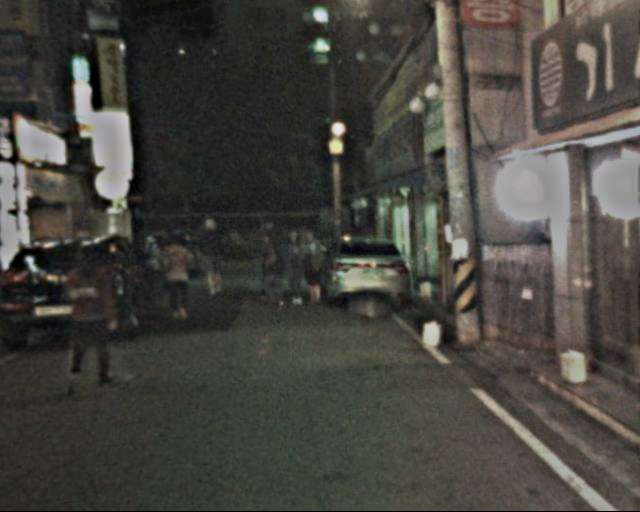person: (64, 243, 121, 379), (157, 236, 195, 324), (190, 215, 228, 292), (293, 229, 329, 303), (247, 217, 279, 286), (278, 232, 307, 300), (255, 233, 282, 299)
